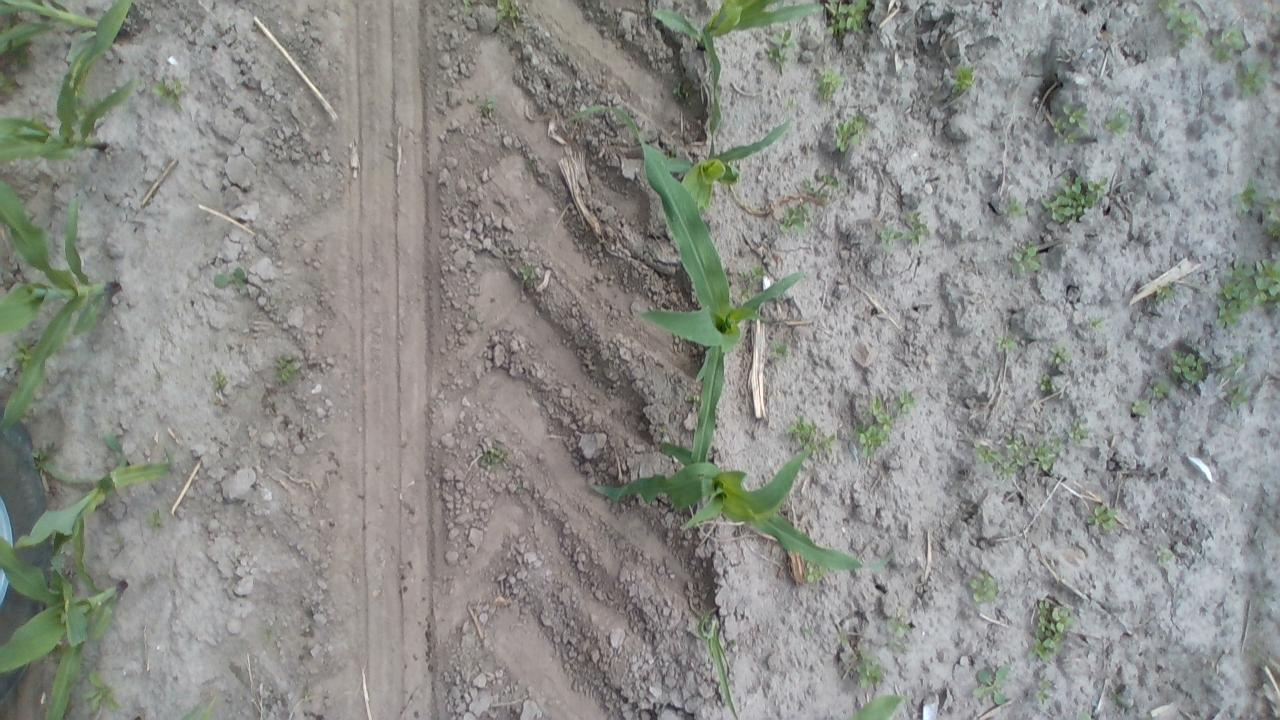Maize: (564, 105, 810, 463), (585, 440, 896, 570), (1, 180, 116, 442), (1, 538, 129, 720), (646, 1, 822, 101), (1, 48, 136, 172), (12, 450, 178, 549), (648, 118, 792, 191), (0, 0, 129, 67), (707, 618, 745, 719), (850, 693, 903, 718)
Weeds: (974, 424, 1090, 470), (1214, 259, 1280, 328), (854, 388, 916, 450), (1042, 169, 1108, 227), (780, 166, 841, 226), (840, 628, 889, 688), (1228, 187, 1280, 242), (1154, 1, 1204, 50), (822, 2, 872, 49), (1033, 598, 1069, 658), (778, 416, 829, 452), (758, 30, 798, 74), (1228, 57, 1272, 96), (874, 212, 928, 241), (1054, 102, 1092, 142), (1211, 26, 1250, 63), (1004, 242, 1046, 275), (972, 667, 1009, 704), (829, 117, 862, 157), (1039, 348, 1067, 395), (942, 65, 976, 103), (148, 72, 188, 104), (1172, 349, 1202, 387), (1085, 500, 1115, 536), (272, 350, 304, 382), (1215, 349, 1247, 380), (496, 1, 528, 30), (968, 573, 998, 602), (471, 92, 499, 122), (814, 67, 839, 100), (998, 195, 1026, 224), (1222, 382, 1250, 411), (1104, 106, 1132, 132), (215, 268, 248, 290), (478, 448, 508, 472), (144, 507, 170, 534), (890, 618, 913, 648), (209, 364, 230, 396), (1156, 278, 1179, 306), (998, 326, 1024, 348), (739, 266, 765, 286), (771, 339, 791, 360), (1154, 545, 1174, 566), (1148, 382, 1168, 401), (1036, 682, 1052, 704), (1088, 313, 1106, 329), (1131, 400, 1145, 417)
